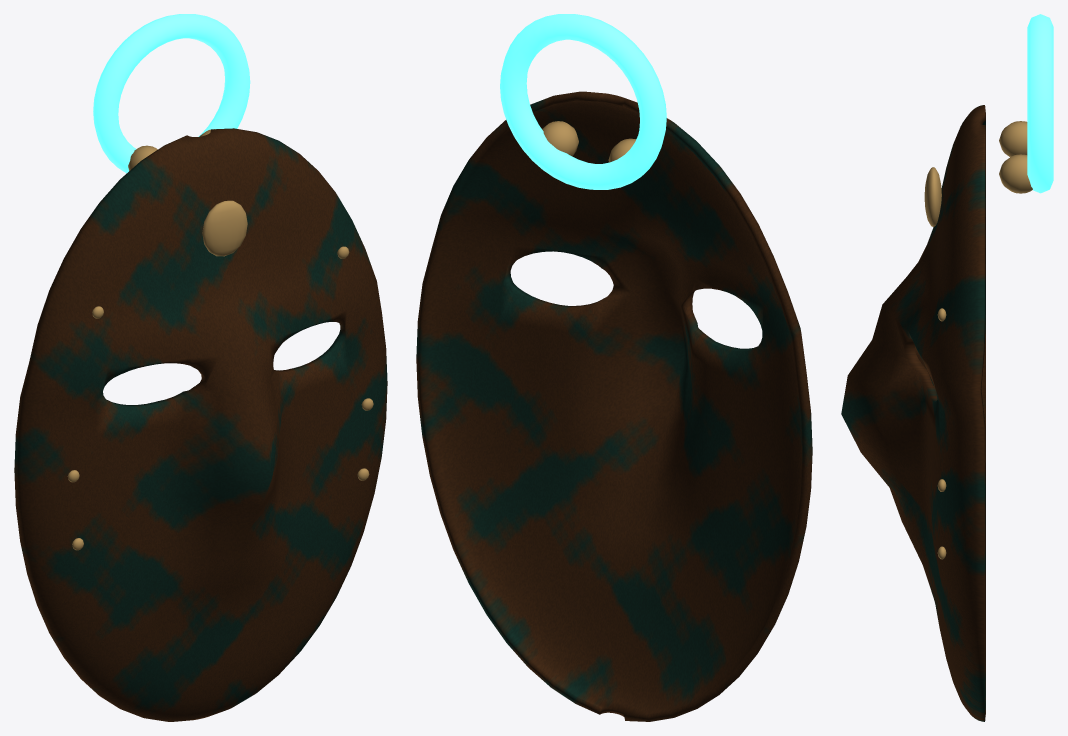
File: mask.fbx
3 renders of one model, left to right at view 1: azimuth 30°, elevation 25°; view 2: azimuth 150°, elevation 25°; view 3: azimuth 270°, elevation 25°, orthographic. The views are drawn at different scales.
Visible parts, largest first — view 1: TH_S_Mask_Face, TH_S_Mask_Handle, TH_S_Mask_BrowSeal; view 2: TH_S_Mask_Face, TH_S_Mask_Handle, TH_S_Mask_HandleMount.001; view 3: TH_S_Mask_Face, TH_S_Mask_Handle, TH_S_Mask_HandleMount.001, TH_S_Mask_HandleMount, TH_S_Mask_BrowSeal.
Boxes of the visible parts, x1,y1,x2,y2 form: TH_S_Mask_Face: [14, 128, 387, 721]; TH_S_Mask_Handle: [93, 14, 250, 173]; TH_S_Mask_BrowSeal: [202, 200, 247, 256]; TH_S_Mask_Face: [416, 91, 812, 721]; TH_S_Mask_Handle: [500, 14, 666, 189]; TH_S_Mask_HandleMount.001: [542, 121, 578, 155]; TH_S_Mask_Face: [841, 105, 985, 721]; TH_S_Mask_Handle: [1027, 14, 1053, 193]; TH_S_Mask_HandleMount.001: [999, 154, 1032, 193]; TH_S_Mask_HandleMount: [999, 121, 1027, 156]; TH_S_Mask_BrowSeal: [924, 167, 941, 226].
Size of the model in its own units: 0.1968 by 0.3452 by 0.097.
3 materials, 1 textured.
